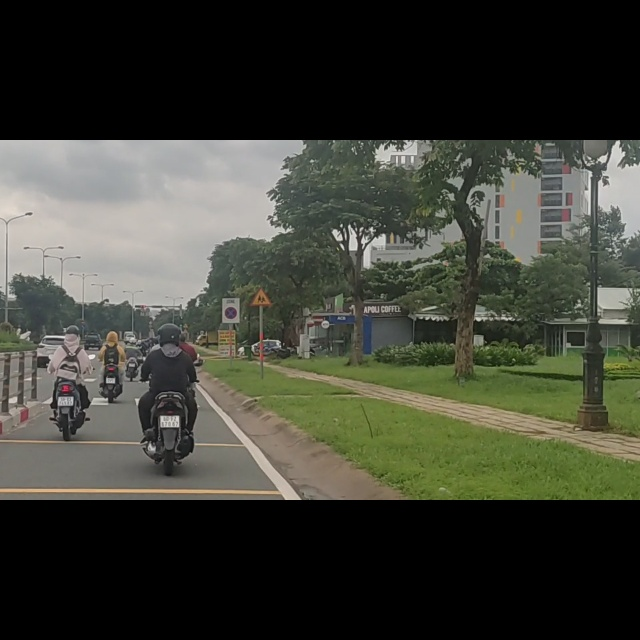bien_nguy_hiem: (250, 260, 271, 295), (225, 296, 237, 319)
